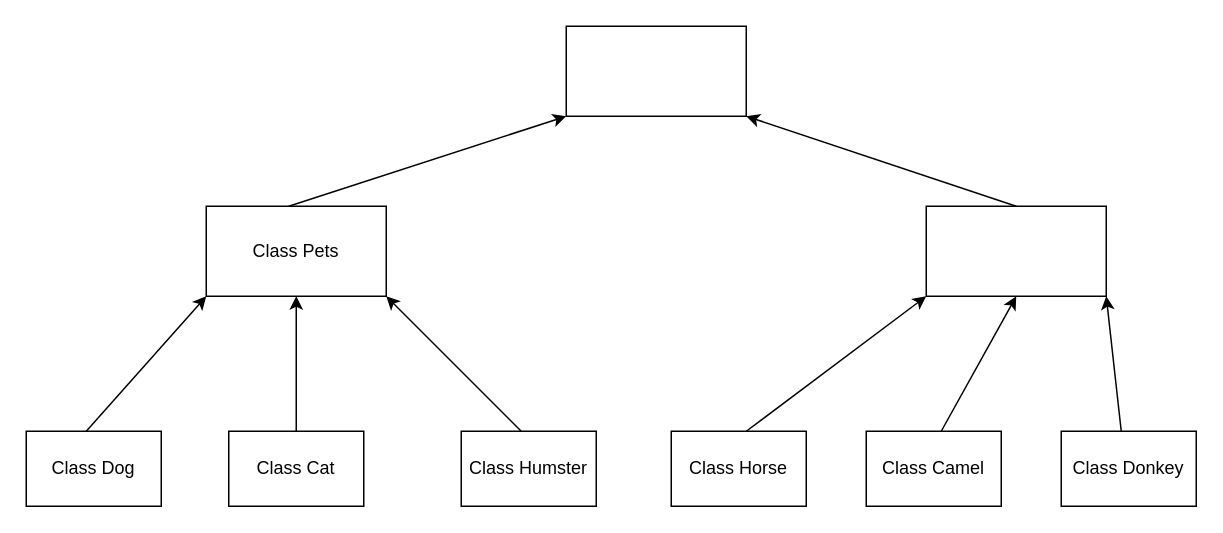
Some shapes in this 1223 by 533 pixel diagram are drawn without their labels. The shapes that lost their labels are listed below. From the top down, each one's centre as x and y in pixels, then its label:
At [655,70]: "Class Animals".
At [1015,250]: "Class PackAnimals".
